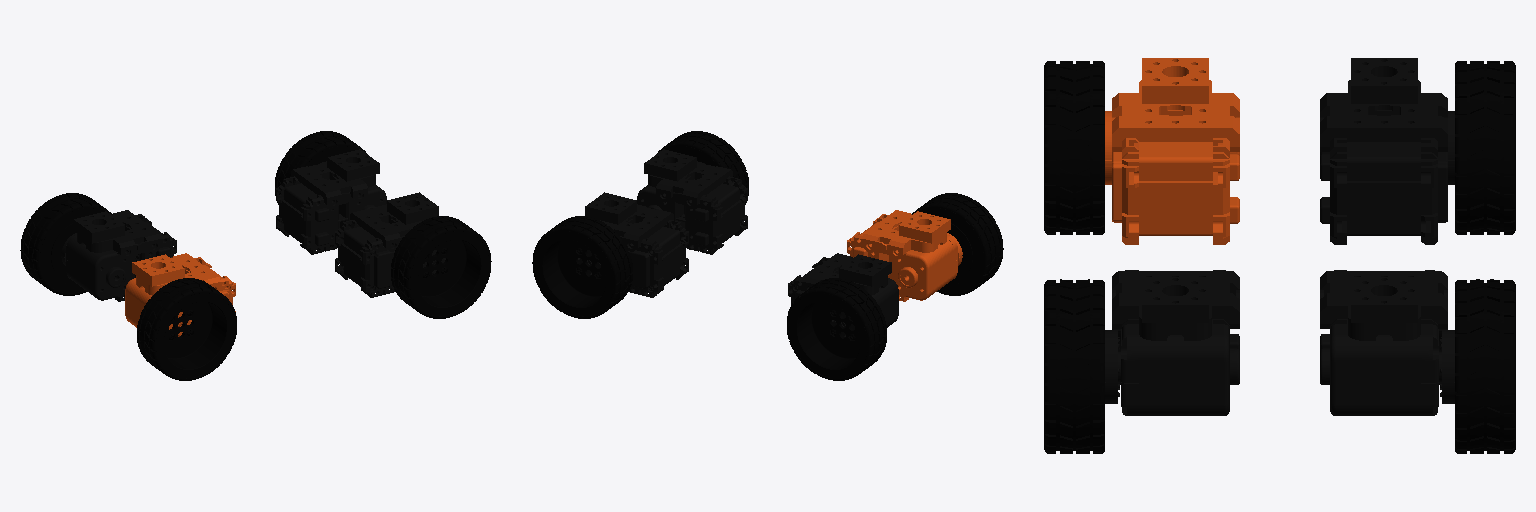
URDF robot description (rs_robot):
<?xml version="1.0" ?>
<robot name="rs_robot" version="1.0">
  <joint name="base_link_joint" type="fixed">
    <origin rpy="0.00000 0.00000 0.00000" xyz="0.00000 0.00000 0.00000"/>
    <parent link="base_footprint"/>
    <child link="base_link"/>
  </joint>
  <joint name="fl_steering_joint" type="revolute">
    <limit lower="-2.10000" upper="2.10000" effort="5" velocity="6.28000"/>
    <origin rpy="0.00000 0.00000 0.00000" xyz="0.07700 0.03100 -0.00400"/>
    <parent link="base_link"/>
    <child link="fl_steering_link"/>
    <axis xyz="0.00000 0.00000 1.00000"/>
  </joint>
  <joint name="fl_wheel_joint" type="continuous">
    <limit lower="0.00000" upper="0.00000" effort="1.50000" velocity="20"/>
    <origin rpy="0.00000 0.00000 -3.14159" xyz="0.00000 0.02100 -0.02500"/>
    <parent link="fl_steering_link"/>
    <child link="fl_wheel_link"/>
    <axis xyz="0.00000 -1.00000 0.00000"/>
  </joint>
  <joint name="fr_steering_joint" type="revolute">
    <limit lower="-2.10000" upper="2.10000" effort="5" velocity="6.28000"/>
    <origin rpy="0.00000 0.00000 0.00000" xyz="0.07700 -0.03100 -0.00400"/>
    <parent link="base_link"/>
    <child link="fr_steering_link"/>
    <axis xyz="0.00000 0.00000 1.00000"/>
  </joint>
  <joint name="fr_wheel_joint" type="continuous">
    <limit lower="0.00000" upper="0.00000" effort="1.50000" velocity="20"/>
    <origin rpy="0.00000 0.00000 0.00000" xyz="0.00000 -0.02100 -0.02500"/>
    <parent link="fr_steering_link"/>
    <child link="fr_wheel_link"/>
    <axis xyz="0.00000 1.00000 0.00000"/>
  </joint>
  <joint name="rl_steering_joint" type="revolute">
    <limit lower="-2.10000" upper="2.10000" effort="5" velocity="6.28000"/>
    <origin rpy="0.00000 0.00000 0.00000" xyz="-0.07700 0.03100 -0.00400"/>
    <parent link="base_link"/>
    <child link="rl_steering_link"/>
    <axis xyz="0.00000 0.00000 1.00000"/>
  </joint>
  <joint name="rl_wheel_joint" type="continuous">
    <limit lower="0.00000" upper="0.00000" effort="1.50000" velocity="20"/>
    <origin rpy="0.00000 0.00000 -3.14159" xyz="0.00000 0.02100 -0.02500"/>
    <parent link="rl_steering_link"/>
    <child link="rl_wheel_link"/>
    <axis xyz="0.00000 -1.00000 0.00000"/>
  </joint>
  <joint name="rr_steering_joint" type="revolute">
    <limit lower="-2.10000" upper="2.10000" effort="5" velocity="6.28000"/>
    <origin rpy="0.00000 0.00000 0.00000" xyz="-0.07700 -0.03100 -0.00400"/>
    <parent link="base_link"/>
    <child link="rr_steering_link"/>
    <axis xyz="0.00000 0.00000 1.00000"/>
  </joint>
  <joint name="rr_wheel_joint" type="continuous">
    <limit lower="0.00000" upper="0.00000" effort="1.50000" velocity="20"/>
    <origin rpy="0.00000 0.00000 0.00000" xyz="0.00000 -0.02100 -0.02500"/>
    <parent link="rr_steering_link"/>
    <child link="rr_wheel_link"/>
    <axis xyz="0.00000 1.00000 0.00000"/>
  </joint>
  <link name="base_footprint"/>
  <link name="base_link">
    <collision name="base_link_collision">
      <origin rpy="0.00000 0.00000 1.57775" xyz="0.00000 0.00000 0.00000"/>
      <geometry>
        <mesh filename="package://rs_robot_pkg2/meshes/stl/base_link.001.stl" scale="1.00000 1.00000 1.00000"/>
      </geometry>
    </collision>
    <inertial>
      <inertia ixx="0.00019" ixy="0.00000" ixz="0.00000" iyy="0.00006" iyz="0.00000" izz="0.00023"/>
      <origin rpy="0.00000 0.00000 0.00000" xyz="0.00000 0.00000 0.01700"/>
      <mass value="1.20000"/>
    </inertial>
    <visual name="base_link_visual">
      <origin rpy="0.00000 0.00000 0.00000" xyz="0.00000 0.00000 0.00000"/>
      <material name="Material.001"/>
      <geometry>
        <mesh filename="package://rs_robot_pkg2/meshes/stl/base_link.stl" scale="1.00000 1.00000 1.00000"/>
      </geometry>
    </visual>
  </link>
  <link name="fl_steering_link">
    <collision name="fl_steering_link_collision">
      <origin rpy="0.00000 0.00000 0.00000" xyz="0.00000 0.00000 0.00000"/>
      <geometry>
        <mesh filename="package://rs_robot_pkg2/meshes/stl/sus_link.stl" scale="1.00000 1.00000 1.00000"/>
      </geometry>
    </collision>
    <inertial>
      <inertia ixx="0.00001" ixy="0.00000" ixz="0.00000" iyy="0.00001" iyz="0.00000" izz="0.00000"/>
      <origin rpy="0.00000 0.00000 0.00000" xyz="0.00000 0.00000 -0.02000"/>
      <mass value="0.15000"/>
    </inertial>
    <visual name="fl_steering_link_visual">
      <origin rpy="0.00000 0.00000 0.00000" xyz="0.00000 0.00000 0.00000"/>
      <material name="Material.009"/>
      <geometry>
        <mesh filename="package://rs_robot_pkg2/meshes/stl/front_left_link.stl" scale="1.00000 1.00000 1.00000"/>
      </geometry>
    </visual>
  </link>
  <link name="fl_wheel_link">
    <collision name="fl_wheel_link_collision">
      <origin rpy="0.00000 0.00000 -0.00000" xyz="0.00000 0.00000 0.00000"/>
      <geometry>
        <mesh filename="package://rs_robot_pkg2/meshes/stl/robot_wheel.stl" scale="1.00000 1.00000 1.00000"/>
      </geometry>
    </collision>
    <inertial>
      <inertia ixx="0.00001" ixy="0.00000" ixz="0.00000" iyy="0.00002" iyz="0.00000" izz="0.00001"/>
      <origin rpy="0.00000 0.00000 0.00000" xyz="0.00000 -0.00700 0.00000"/>
      <mass value="0.05000"/>
    </inertial>
    <visual name="fl_wheel_link_visual">
      <origin rpy="0.00000 0.00000 -0.00000" xyz="0.00000 0.00000 0.00000"/>
      <material name="Material.018"/>
      <geometry>
        <mesh filename="package://rs_robot_pkg2/meshes/stl/wheel_link.stl" scale="1.00000 1.00000 1.00000"/>
      </geometry>
    </visual>
  </link>
  <link name="fr_steering_link">
    <collision name="fr_steering_link_collision">
      <origin rpy="0.00000 0.00000 0.00000" xyz="0.00000 0.00000 0.00000"/>
      <geometry>
        <mesh filename="package://rs_robot_pkg2/meshes/stl/sus_link.stl" scale="1.00000 1.00000 1.00000"/>
      </geometry>
    </collision>
    <inertial>
      <inertia ixx="0.00001" ixy="0.00000" ixz="0.00000" iyy="0.00001" iyz="0.00000" izz="0.00000"/>
      <origin rpy="0.00000 0.00000 0.00000" xyz="0.00000 0.00000 -0.02000"/>
      <mass value="0.15000"/>
    </inertial>
    <visual name="fr_steering_link_visual">
      <origin rpy="0.00000 0.00000 0.00000" xyz="0.00000 0.00000 0.00000"/>
      <material name="Material.006"/>
      <geometry>
        <mesh filename="package://rs_robot_pkg2/meshes/stl/front_right_link.stl" scale="1.00000 1.00000 1.00000"/>
      </geometry>
    </visual>
  </link>
  <link name="fr_wheel_link">
    <collision name="fr_wheel_link_collision">
      <origin rpy="0.00000 0.00000 0.00000" xyz="0.00000 0.00000 0.00000"/>
      <geometry>
        <mesh filename="package://rs_robot_pkg2/meshes/stl/robot_wheel.stl" scale="1.00000 1.00000 1.00000"/>
      </geometry>
    </collision>
    <inertial>
      <inertia ixx="0.00001" ixy="0.00000" ixz="0.00000" iyy="0.00002" iyz="0.00000" izz="0.00001"/>
      <origin rpy="0.00000 0.00000 0.00000" xyz="0.00000 -0.00700 0.00000"/>
      <mass value="0.05000"/>
    </inertial>
    <visual name="fr_wheel_link_visual">
      <origin rpy="0.00000 0.00000 0.00000" xyz="0.00000 0.00000 0.00000"/>
      <material name="Material.018"/>
      <geometry>
        <mesh filename="package://rs_robot_pkg2/meshes/stl/wheel_link.stl" scale="1.00000 1.00000 1.00000"/>
      </geometry>
    </visual>
  </link>
  <link name="rl_steering_link">
    <collision name="rl_steering_link_collision">
      <origin rpy="0.00000 0.00000 0.00000" xyz="0.00000 0.00000 0.00000"/>
      <geometry>
        <mesh filename="package://rs_robot_pkg2/meshes/stl/sus_link.stl" scale="1.00000 1.00000 1.00000"/>
      </geometry>
    </collision>
    <inertial>
      <inertia ixx="0.00001" ixy="0.00000" ixz="0.00000" iyy="0.00001" iyz="0.00000" izz="0.00000"/>
      <origin rpy="0.00000 0.00000 0.00000" xyz="0.00000 0.00000 -0.02000"/>
      <mass value="0.15000"/>
    </inertial>
    <visual name="rl_steering_link_visual">
      <origin rpy="0.00000 0.00000 0.00000" xyz="0.00000 0.00000 0.00000"/>
      <material name="Material.015"/>
      <geometry>
        <mesh filename="package://rs_robot_pkg2/meshes/stl/rear_left_link.stl" scale="1.00000 1.00000 1.00000"/>
      </geometry>
    </visual>
  </link>
  <link name="rl_wheel_link">
    <collision name="rl_wheel_link_collision">
      <origin rpy="0.00000 0.00000 -0.00000" xyz="0.00000 0.00000 0.00000"/>
      <geometry>
        <mesh filename="package://rs_robot_pkg2/meshes/stl/robot_wheel.stl" scale="1.00000 1.00000 1.00000"/>
      </geometry>
    </collision>
    <inertial>
      <inertia ixx="0.00001" ixy="0.00000" ixz="0.00000" iyy="0.00002" iyz="0.00000" izz="0.00001"/>
      <origin rpy="0.00000 0.00000 0.00000" xyz="0.00000 -0.00700 0.00000"/>
      <mass value="0.05000"/>
    </inertial>
    <visual name="rl_wheel_link_visual">
      <origin rpy="0.00000 0.00000 -0.00000" xyz="0.00000 0.00000 0.00000"/>
      <material name="Material.018"/>
      <geometry>
        <mesh filename="package://rs_robot_pkg2/meshes/stl/wheel_link.stl" scale="1.00000 1.00000 1.00000"/>
      </geometry>
    </visual>
  </link>
  <link name="rr_steering_link">
    <collision name="rr_steering_link_collision">
      <origin rpy="0.00000 0.00000 0.00000" xyz="0.00000 0.00000 0.00000"/>
      <geometry>
        <mesh filename="package://rs_robot_pkg2/meshes/stl/sus_link.stl" scale="1.00000 1.00000 1.00000"/>
      </geometry>
    </collision>
    <inertial>
      <inertia ixx="0.00001" ixy="0.00000" ixz="0.00000" iyy="0.00001" iyz="0.00000" izz="0.00000"/>
      <origin rpy="0.00000 0.00000 0.00000" xyz="0.00000 0.00000 -0.02000"/>
      <mass value="0.15000"/>
    </inertial>
    <visual name="rr_steering_link_visual">
      <origin rpy="0.00000 0.00000 0.00000" xyz="0.00000 0.00000 0.00000"/>
      <material name="Material.012"/>
      <geometry>
        <mesh filename="package://rs_robot_pkg2/meshes/stl/rear_right_link.stl" scale="1.00000 1.00000 1.00000"/>
      </geometry>
    </visual>
  </link>
  <link name="rr_wheel_link">
    <collision name="rr_wheel_link_collision">
      <origin rpy="0.00000 0.00000 0.00000" xyz="0.00000 0.00000 0.00000"/>
      <geometry>
        <mesh filename="package://rs_robot_pkg2/meshes/stl/robot_wheel.stl" scale="1.00000 1.00000 1.00000"/>
      </geometry>
    </collision>
    <inertial>
      <inertia ixx="0.00001" ixy="0.00000" ixz="0.00000" iyy="0.00002" iyz="0.00000" izz="0.00001"/>
      <origin rpy="0.00000 0.00000 0.00000" xyz="0.00000 -0.00700 0.00000"/>
      <mass value="0.05000"/>
    </inertial>
    <visual name="rr_wheel_link_visual">
      <origin rpy="0.00000 0.00000 0.00000" xyz="0.00000 0.00000 0.00000"/>
      <material name="Material.018"/>
      <geometry>
        <mesh filename="package://rs_robot_pkg2/meshes/stl/wheel_link.stl" scale="1.00000 1.00000 1.00000"/>
      </geometry>
    </visual>
  </link>
  <material name="Material.001">
    <color rgba="0.80000 0.80000 0.80000 1.00000"/>
  </material>
  <material name="Material.006">
    <color rgba="0.09020 0.09020 0.09020 1.00000"/>
  </material>
  <material name="Material.009">
    <color rgba="0.09020 0.09020 0.09020 1.00000"/>
  </material>
  <material name="Material.012">
    <color rgba="0.80000 0.34902 0.12157 1.00000"/>
  </material>
  <material name="Material.015">
    <color rgba="0.09020 0.09020 0.09020 1.00000"/>
  </material>
  <material name="Material.018">
    <color rgba="0.04706 0.04706 0.04706 1.00000"/>
  </material>
</robot>

--- What the picture shows (computed from the rendered views, not written in the file) ---
3 views of the same robot in one strip: view 1: azimuth 30°, elevation 25°; view 2: azimuth 150°, elevation 25°; view 3: azimuth 270°, elevation 25° (orthographic).
Model rs_robot with 10 links and 9 joints (4 revolute, 4 continuous, 1 fixed), rooted at base_footprint, posed every joint at zero.
Visible links, largest first — view 1: fr_wheel_link, rr_wheel_link, fl_steering_link, rl_steering_link, fr_steering_link, rl_wheel_link, rr_steering_link, fl_wheel_link; view 2: rl_wheel_link, fl_wheel_link, fr_steering_link, rr_steering_link, fl_steering_link, rr_wheel_link, rl_steering_link, fr_wheel_link; view 3: rr_steering_link, rl_steering_link, fr_steering_link, fl_steering_link, fl_wheel_link, fr_wheel_link, rl_wheel_link, rr_wheel_link.
Link boxes in pixels (x1,y1,x2,y2): fr_wheel_link: [391, 216, 491, 318]; rr_wheel_link: [137, 278, 236, 380]; fl_steering_link: [276, 149, 386, 254]; rl_steering_link: [61, 210, 176, 301]; fr_steering_link: [335, 192, 445, 297]; rl_wheel_link: [20, 193, 111, 295]; rr_steering_link: [125, 253, 235, 336]; fl_wheel_link: [275, 131, 366, 204]; rl_wheel_link: [787, 278, 886, 380]; fl_wheel_link: [532, 216, 632, 318]; fr_steering_link: [637, 149, 747, 254]; rr_steering_link: [847, 210, 962, 301]; fl_steering_link: [578, 192, 688, 297]; rr_wheel_link: [912, 193, 1003, 295]; rl_steering_link: [788, 253, 898, 336]; fr_wheel_link: [657, 131, 748, 204]; rr_steering_link: [1105, 58, 1239, 244]; rl_steering_link: [1320, 58, 1454, 244]; fr_steering_link: [1105, 270, 1239, 415]; fl_steering_link: [1320, 270, 1454, 415]; fl_wheel_link: [1455, 279, 1515, 453]; fr_wheel_link: [1044, 279, 1104, 453]; rl_wheel_link: [1455, 61, 1515, 234]; rr_wheel_link: [1044, 61, 1104, 234].
Bounding box of the posed robot: 0.206 × 0.14 × 0.052 m (x, y, z).
8 mesh visuals loaded from 6 distinct referenced files (5 binary STL); not drawn: 1 (reference not matched to a file when rendering).